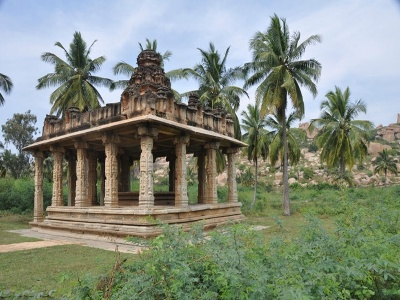mandapa: (25, 84, 247, 208)
